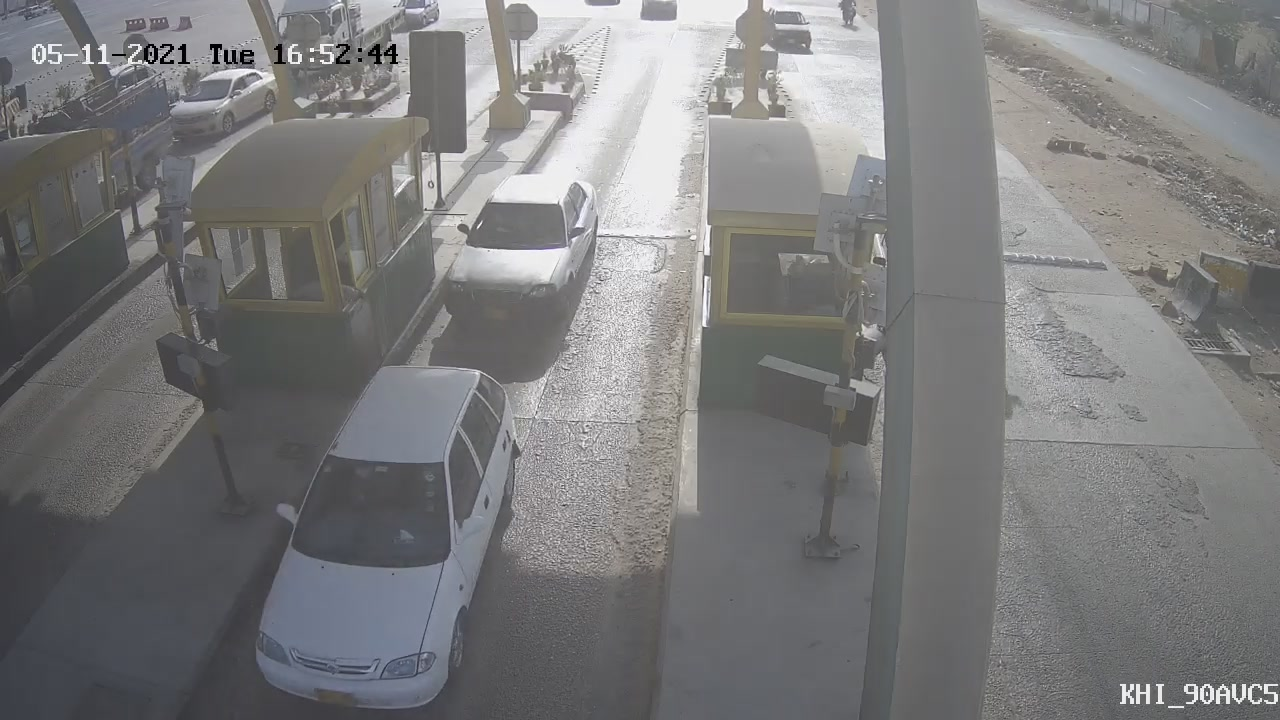F1: (430, 156, 622, 352)
